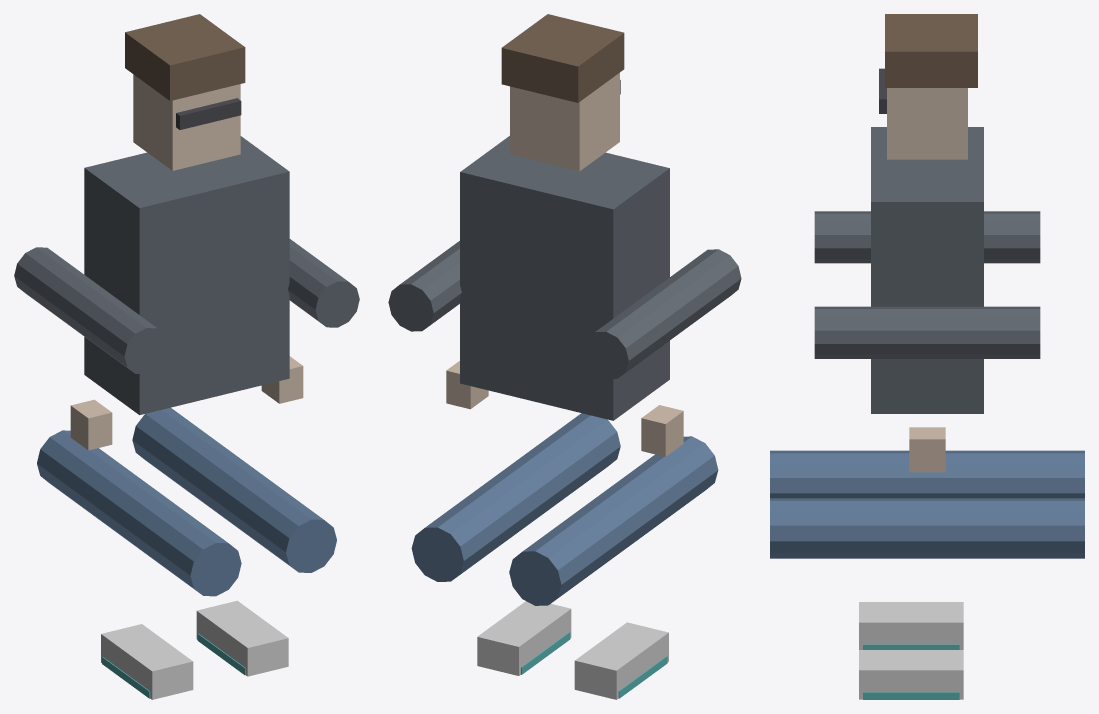
Rendered from character_player.glb.
3 renders of one model, left to right at view 1: azimuth 30°, elevation 25°; view 2: azimuth 150°, elevation 25°; view 3: azimuth 270°, elevation 25°, orthographic. The views are drawn at different scales.
Visible parts, largest first — view 1: geometry_0; view 2: geometry_0; view 3: geometry_0.
Boxes of the visible parts, x1,y1,x2,y2 form: geometry_0: (14,14,359,699); geometry_0: (388,14,741,699); geometry_0: (770,14,1084,699).
Size of the model in its own units: 0.69 by 1.73 by 0.78.
